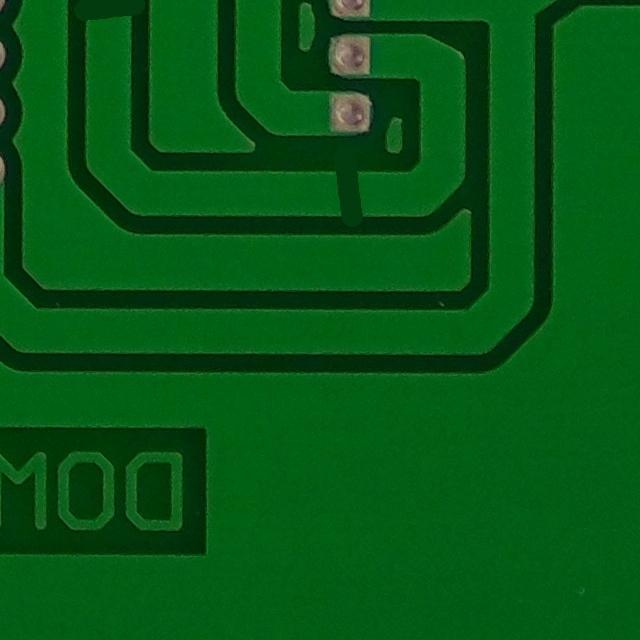open_circuit: (313, 155, 381, 230), (71, 0, 150, 33)
